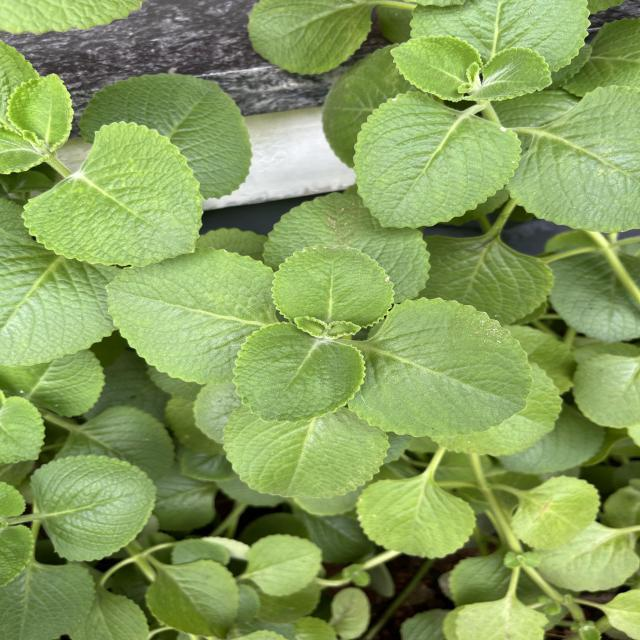Plectranthus barbatus: (20, 120, 204, 268), (348, 296, 534, 438), (103, 245, 275, 386), (352, 90, 524, 230), (78, 72, 254, 200), (505, 84, 640, 235), (262, 190, 432, 300), (221, 402, 390, 499), (28, 453, 160, 563), (230, 322, 368, 424), (270, 243, 396, 329), (354, 474, 478, 560), (245, 0, 376, 77), (142, 558, 242, 640), (508, 474, 604, 550), (390, 34, 482, 102), (244, 532, 326, 598), (462, 46, 554, 102)
